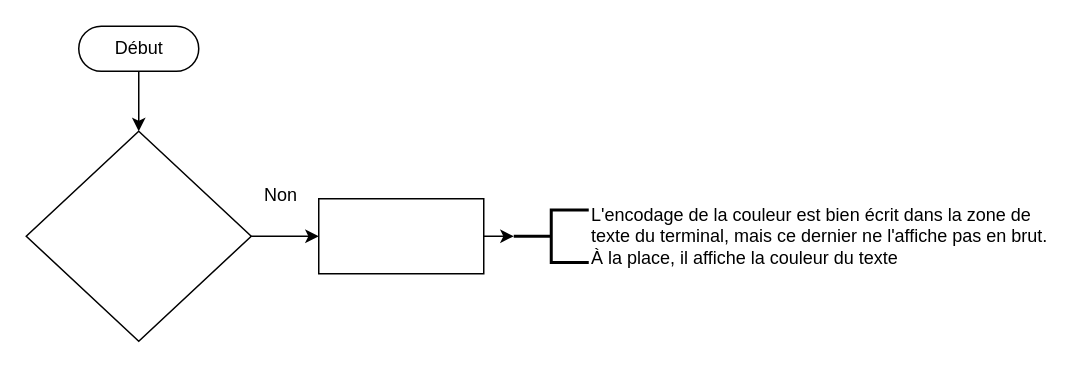
The diagram is 1074 pixels wide and 368 high, and some of its shapes have lost their labels. Here are the shapes that lost their labels. From the top down, the box of each, then its label:
(25, 130, 251, 341): L'encodage de la couleur a été écrit dans le terminal
(317, 197, 484, 274): Écrire l'encodage de la couleur dans le terminal
